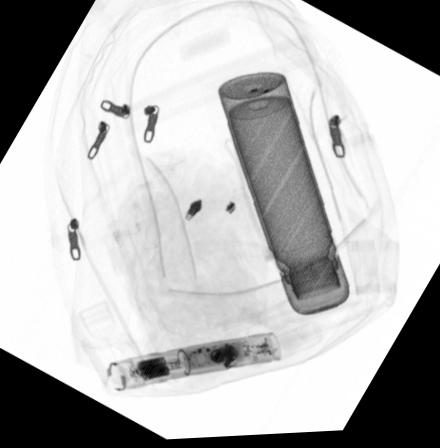Baton: (101, 333, 281, 395)
